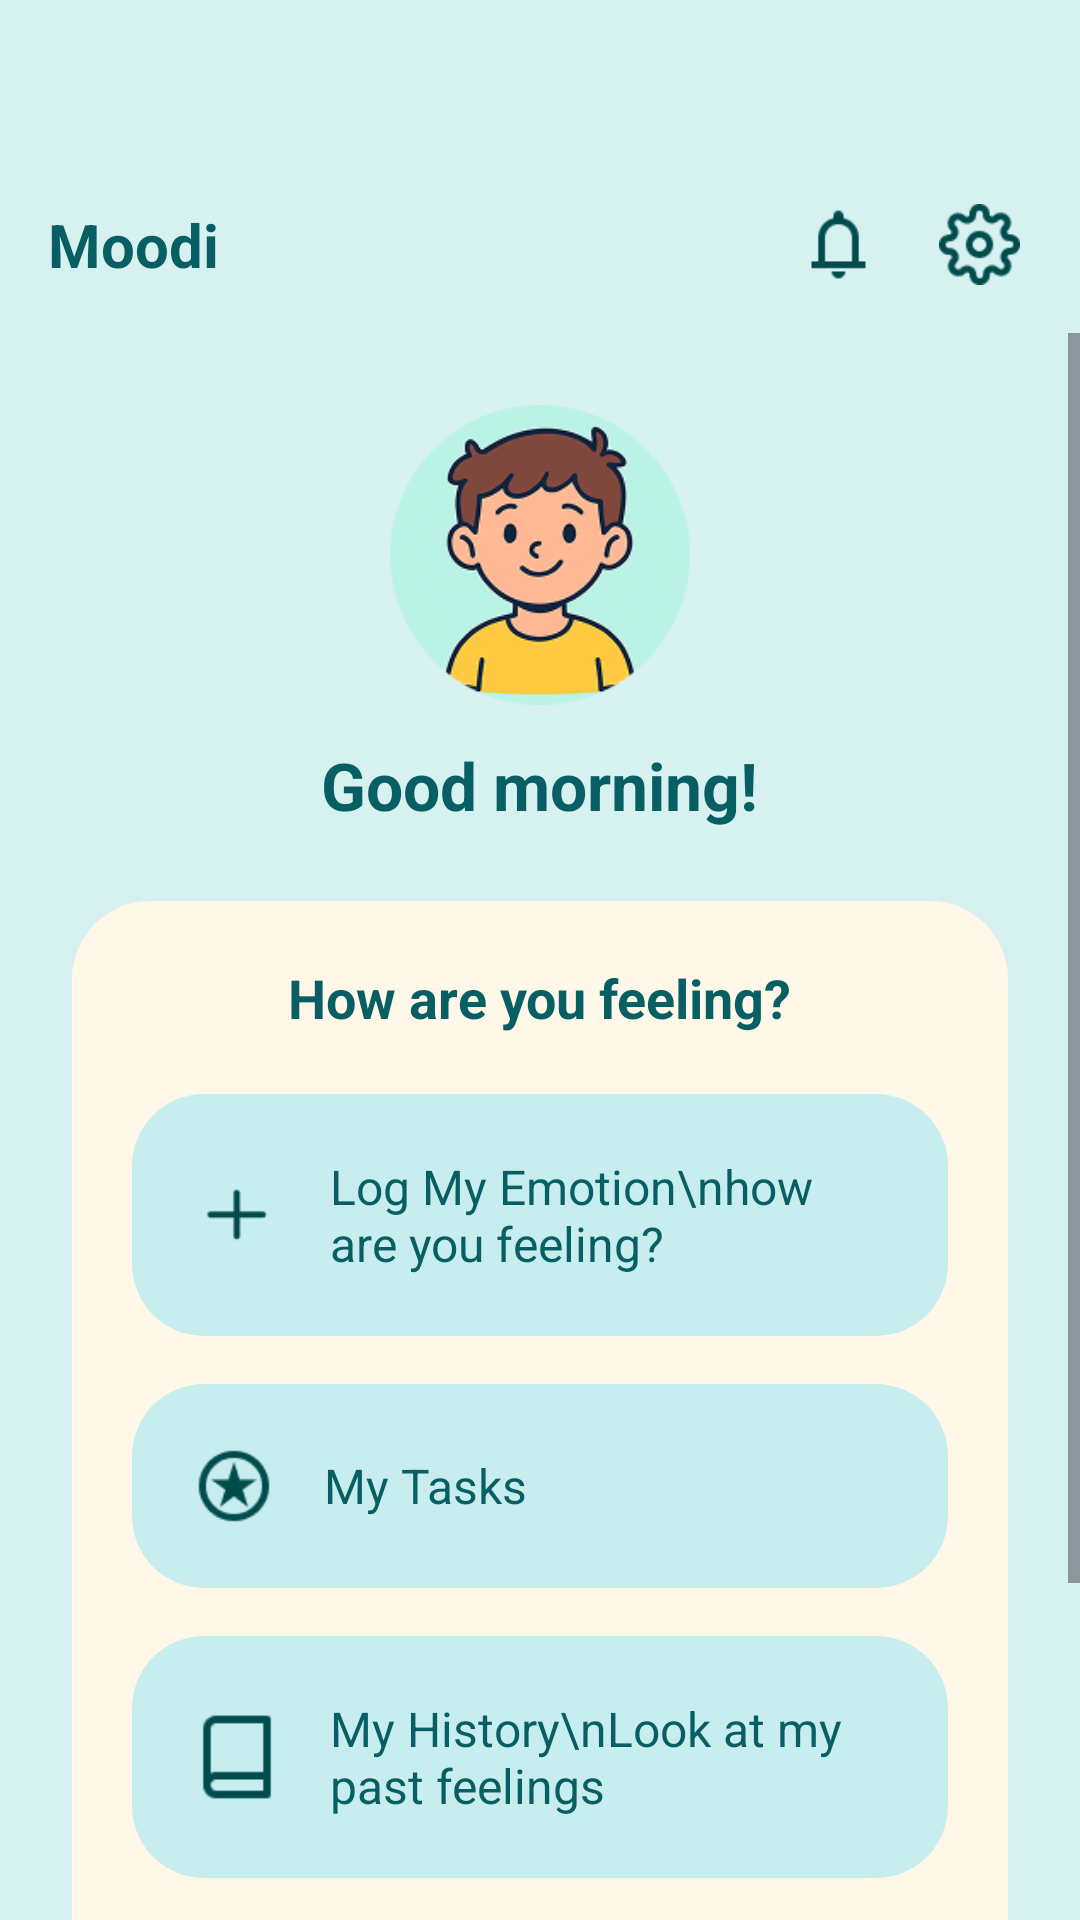

Point at icon controls on the screen. Image size 1080×1920, points as (x,y).
add: (237,1214)
book: (237,1757)
Child avatar: (540,555)
Notifications: (838,244)
Settings: (979,244)
star: (234,1486)
